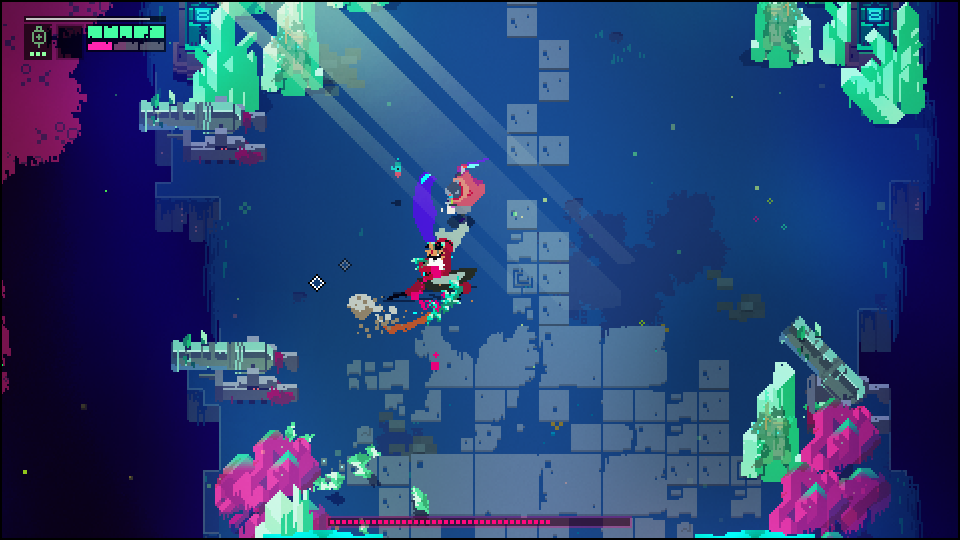hanged_man: (389, 220, 474, 329)
player: (410, 160, 490, 250)
